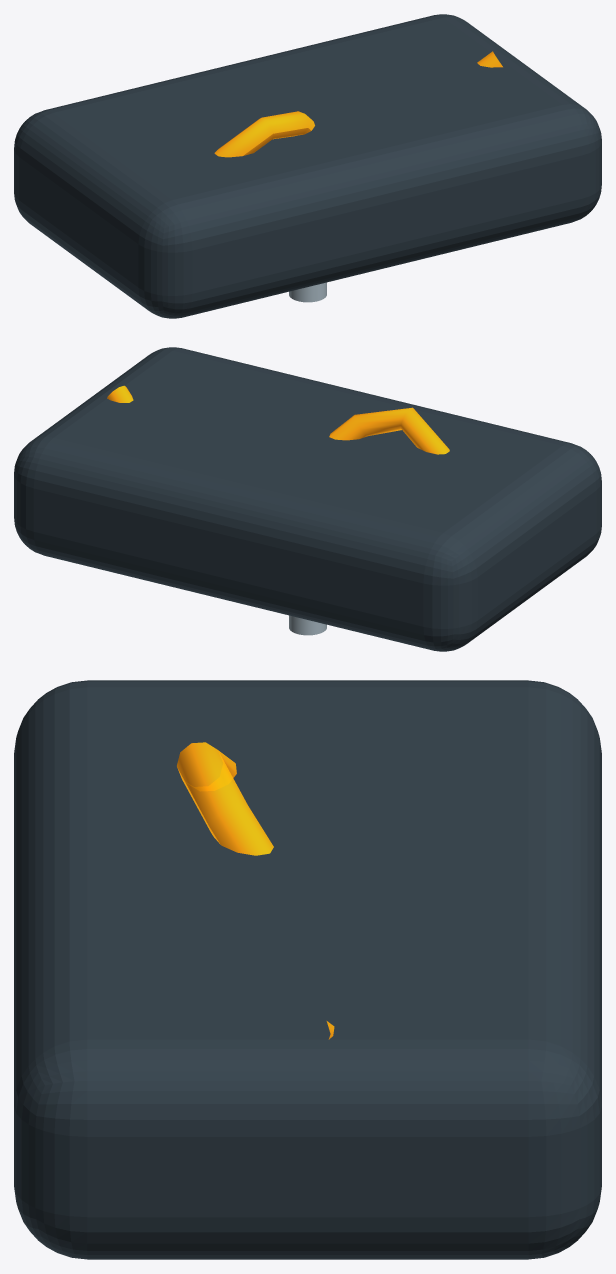
Rendered from body_28.glb.
3 views of the same model, one above another, from view 1: azimuth 30°, elevation 25°; view 2: azimuth 150°, elevation 25°; view 3: azimuth 270°, elevation 25° (orthographic). The views are drawn at different scales.
Parts seen in each view (by area): view 1: asset_mesh__body_1313__reference_body, asset_mesh__body_1317__fluid_path, asset_mesh__body_1340__service_hardware_shank; view 2: asset_mesh__body_1313__reference_body, asset_mesh__body_1317__fluid_path, asset_mesh__body_1340__service_hardware_shank; view 3: asset_mesh__body_1313__reference_body, asset_mesh__body_1317__fluid_path.
Boxes of the visible parts, x1=… form: asset_mesh__body_1313__reference_body: x1=14, y1=14, x2=601, y2=318; asset_mesh__body_1317__fluid_path: x1=214, y1=51, x2=502, y2=157; asset_mesh__body_1340__service_hardware_shank: x1=289, y1=282, x2=326, y2=302; asset_mesh__body_1313__reference_body: x1=14, y1=347, x2=601, y2=651; asset_mesh__body_1317__fluid_path: x1=107, y1=385, x2=449, y2=454; asset_mesh__body_1340__service_hardware_shank: x1=289, y1=615, x2=326, y2=635; asset_mesh__body_1313__reference_body: x1=14, y1=680, x2=601, y2=1259; asset_mesh__body_1317__fluid_path: x1=177, y1=742, x2=334, y2=1039.
Size of the model in its own units: 1.47 by 0.6588 by 0.882.
